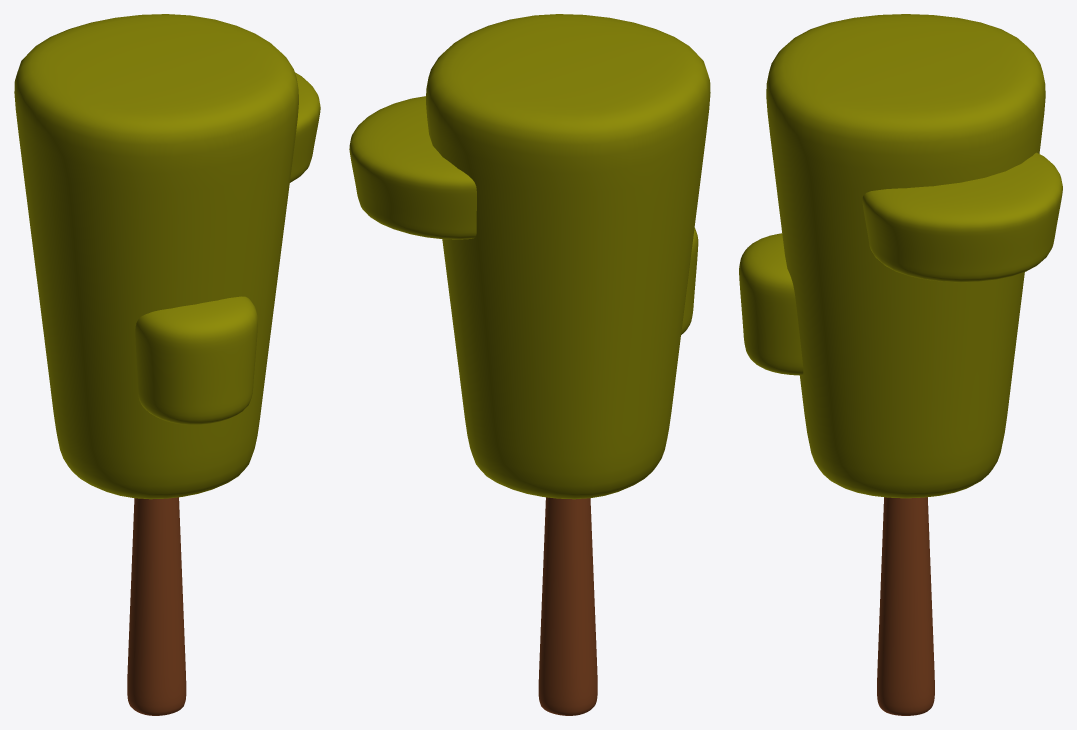
File: Tree.fbx
3 renders of one model, left to right at view 1: azimuth 30°, elevation 25°; view 2: azimuth 150°, elevation 25°; view 3: azimuth 270°, elevation 25°, orthographic.
Visible parts, largest first — view 1: Cube.004, Cube.002, Cube.001, Cube.003; view 2: Cube.004, Cube.003, Cube.001, Cube.002; view 3: Cube.004, Cube.003, Cube.001, Cube.002.
Part boxes in pixels (x1,y1,x2,y2): Cube.004: (14, 14, 298, 499); Cube.002: (135, 296, 257, 424); Cube.001: (127, 497, 186, 715); Cube.003: (290, 72, 320, 182); Cube.004: (426, 14, 710, 499); Cube.003: (349, 96, 476, 239); Cube.001: (538, 497, 597, 715); Cube.002: (681, 228, 698, 334); Cube.004: (766, 14, 1045, 498); Cube.003: (862, 152, 1062, 282); Cube.001: (877, 497, 934, 715); Cube.002: (739, 233, 803, 375).
Size of the model in its own units: 243 by 503 by 229.
